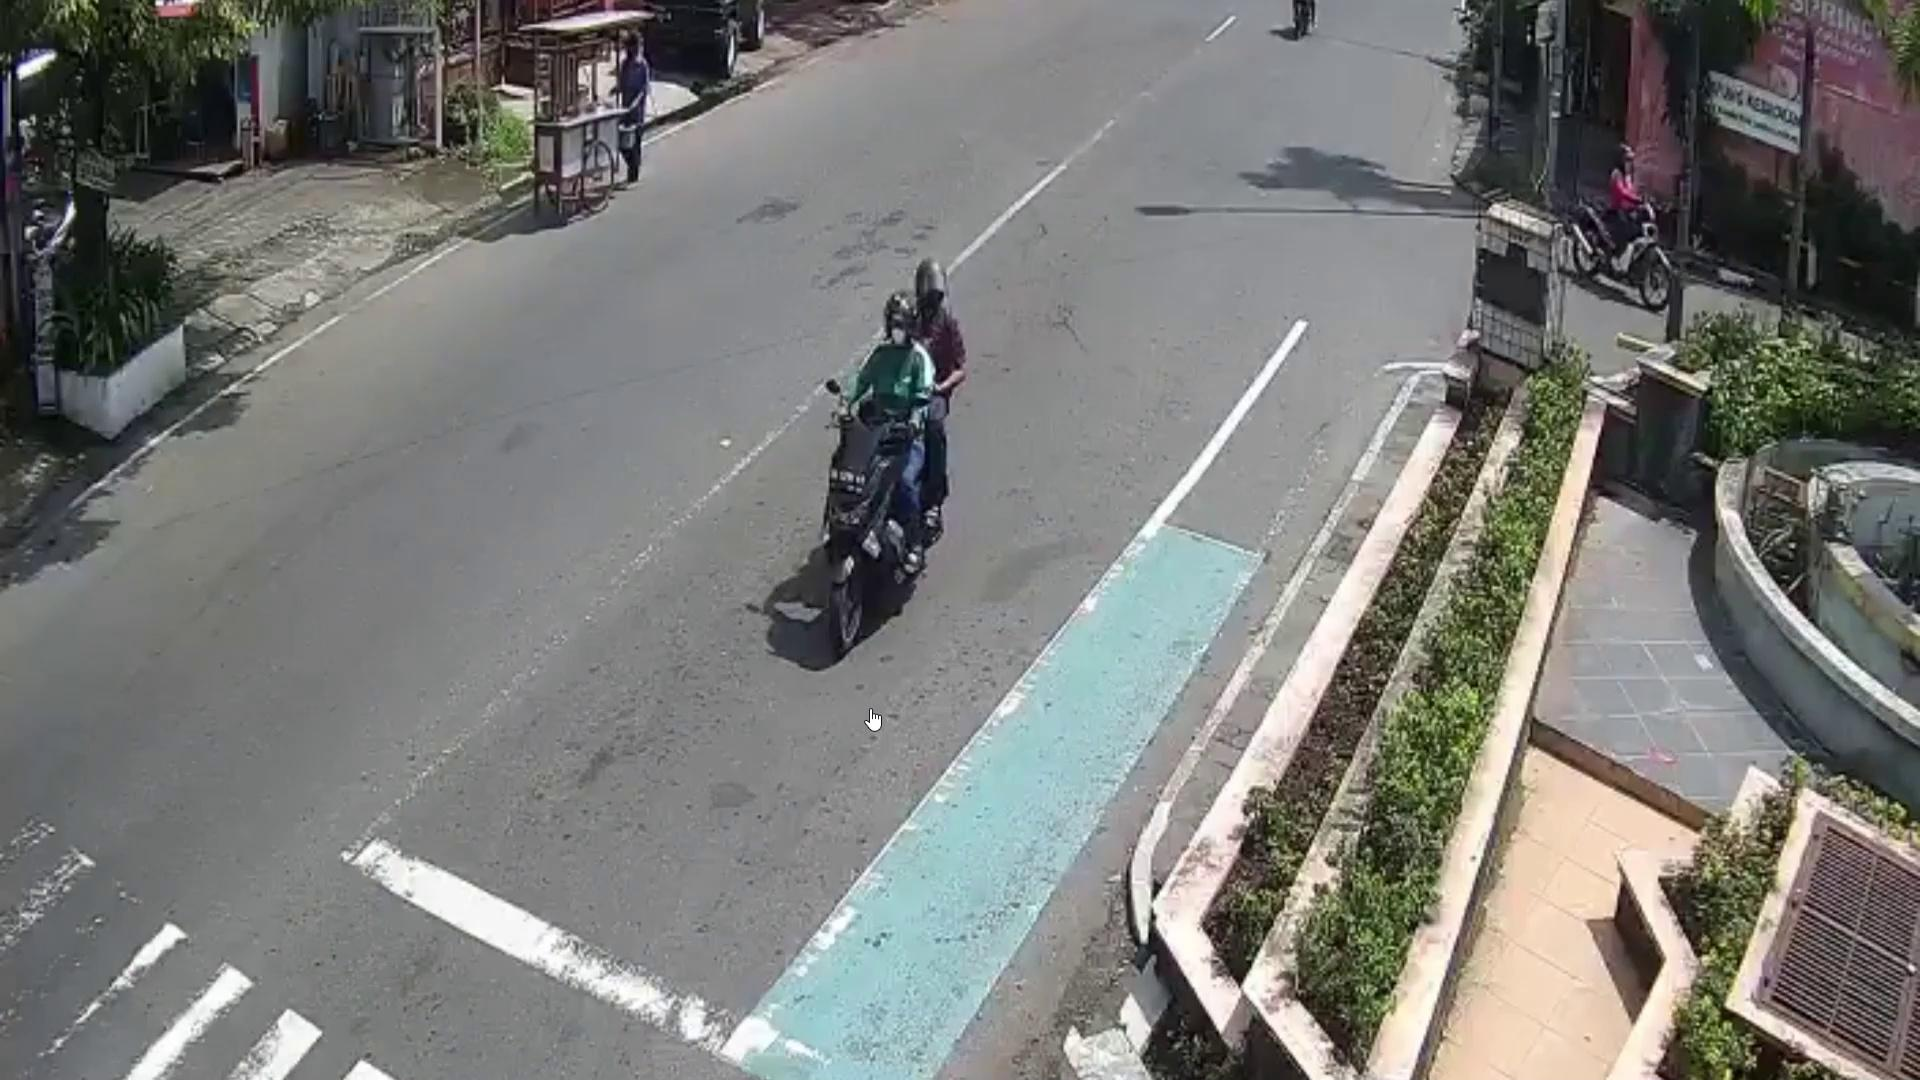motorbike: (827, 413, 898, 657), (1572, 183, 1677, 322)
